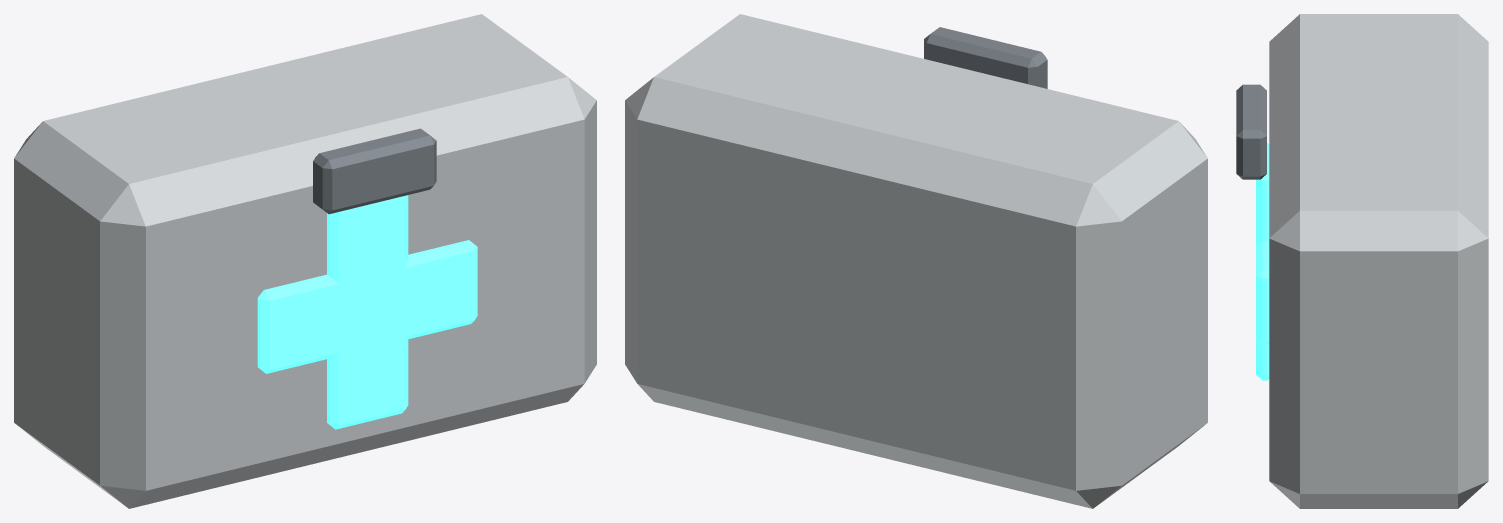
The model's file is PROP_Medkit_WorldTP_v01.glb.
The picture shows the model from 3 angles, left to right: view 1: azimuth 30°, elevation 25°; view 2: azimuth 150°, elevation 25°; view 3: azimuth 270°, elevation 25°; orthographic projection. The views are drawn at different scales.
Visible parts, largest first — view 1: MESH_Prop, MESH_MedicalMark, MESH_Latch; view 2: MESH_Prop, MESH_Latch; view 3: MESH_Prop, MESH_MedicalMark, MESH_Latch.
Part boxes in pixels (x1,y1,x2,y2): MESH_Prop: (14, 14, 596, 508); MESH_MedicalMark: (257, 195, 477, 429); MESH_Latch: (313, 128, 436, 214); MESH_Prop: (625, 14, 1207, 508); MESH_Latch: (924, 27, 1047, 88); MESH_Prop: (1269, 14, 1488, 508); MESH_MedicalMark: (1256, 142, 1269, 380); MESH_Latch: (1236, 84, 1266, 179).
Size of the model in its own units: 0.24 by 0.1525 by 0.115.
